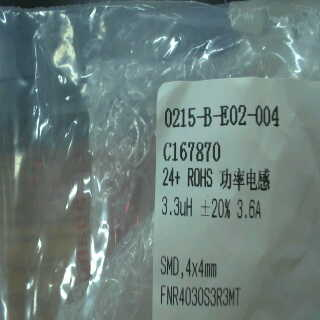3.3uH: (152, 190, 193, 226)
